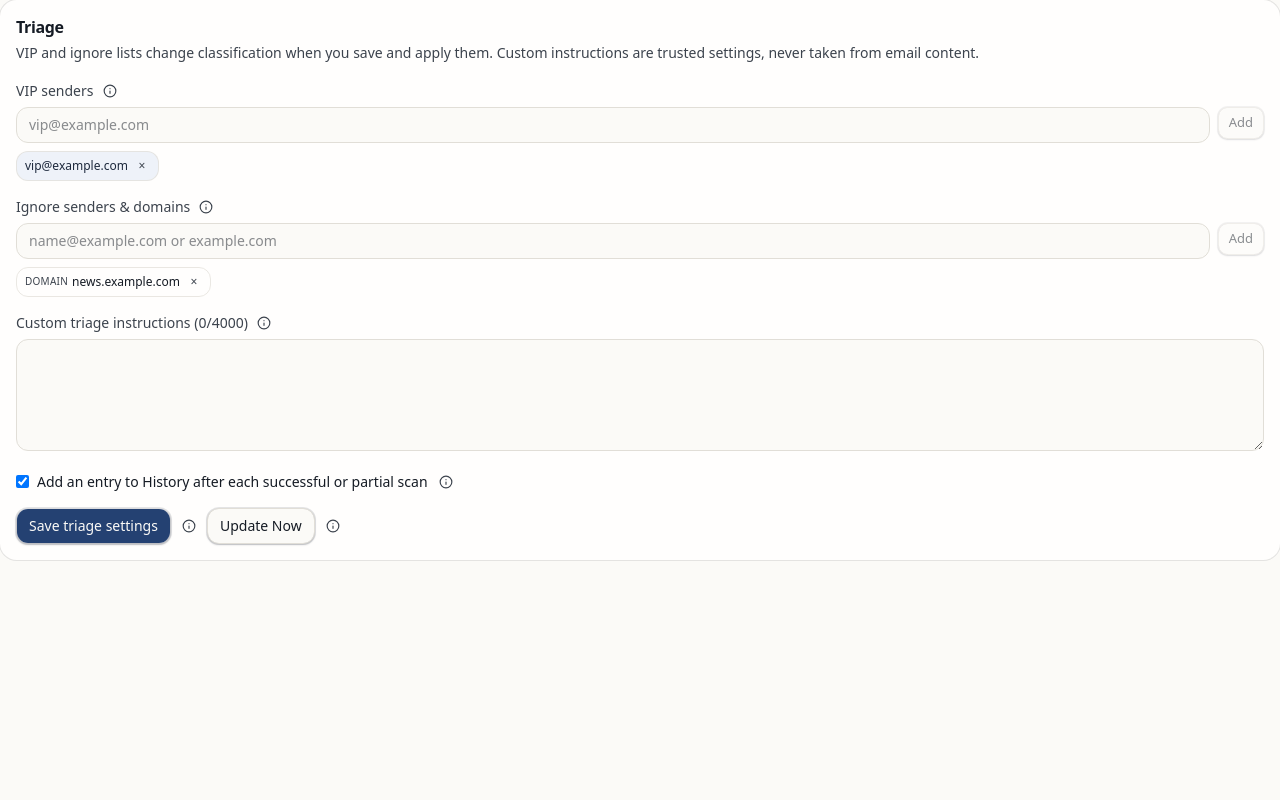
Test: TriagePreferencesForm › adds a validated VIP chip and rejects invalid email
Step 1. Type "Boss@Acme.com" into the field with placeholder "vip@example.com" → {"x": 613, "y": 125}, box [16, 107, 1210, 143]
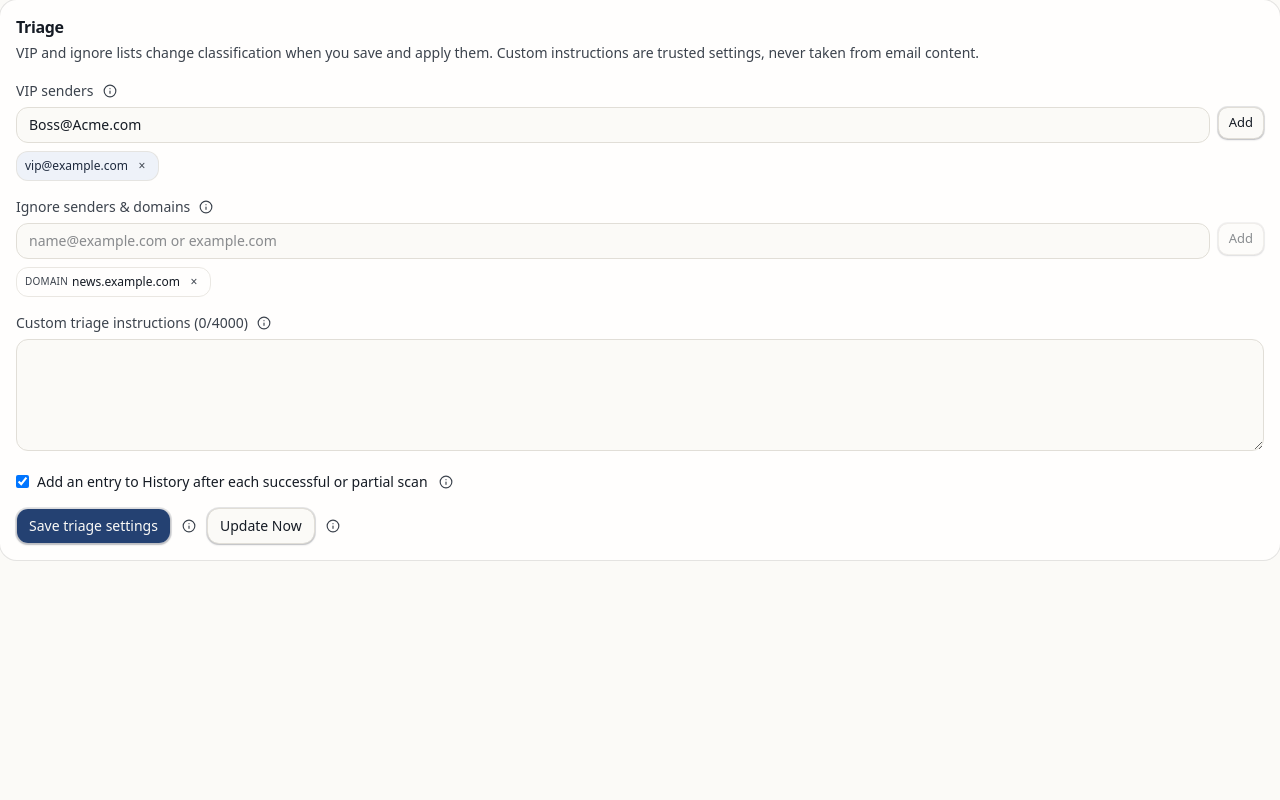
Step 2. Click the 1st button "Add" → {"x": 1241, "y": 123}, box [1218, 107, 1264, 139]
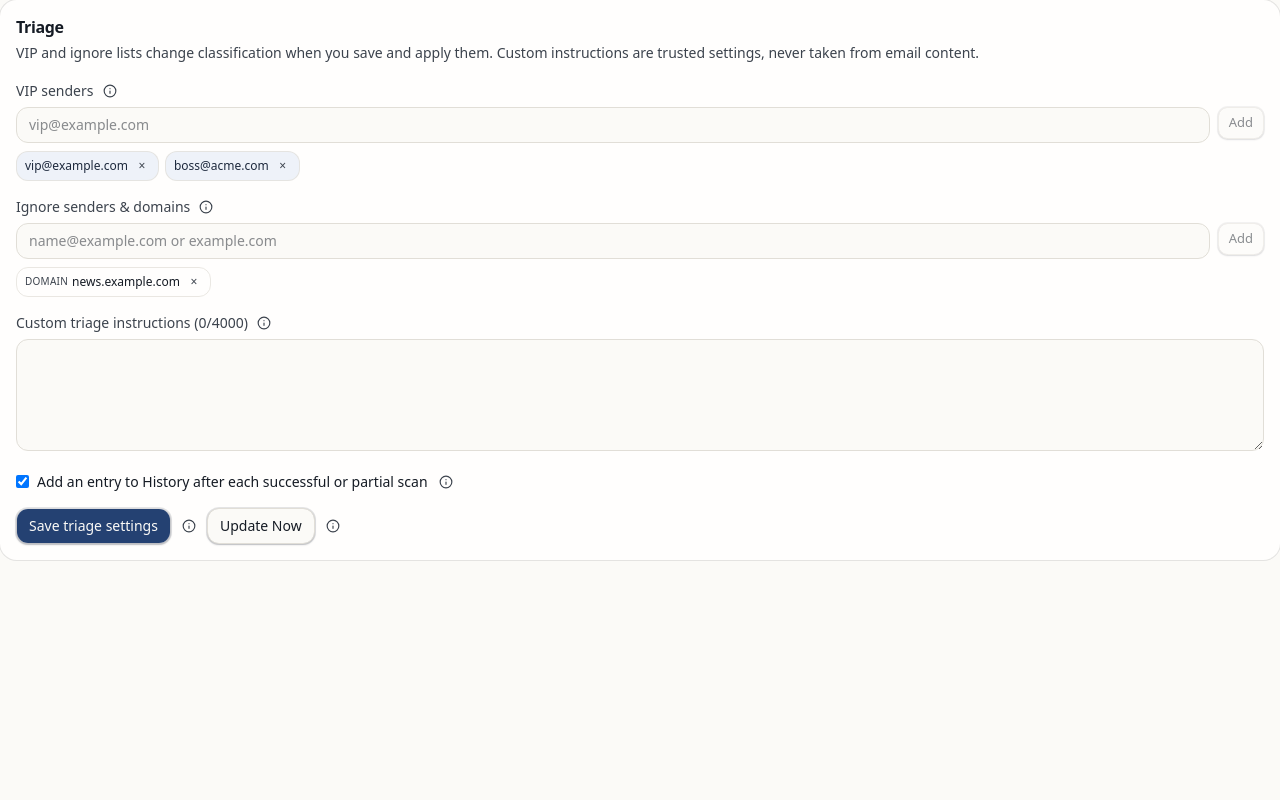
Check: the text "boss@acme.com" is shown, box [174, 158, 269, 174]
Step 3. Type "not-valid" into the field with placeholder "vip@example.com" → {"x": 613, "y": 125}, box [16, 107, 1210, 143]
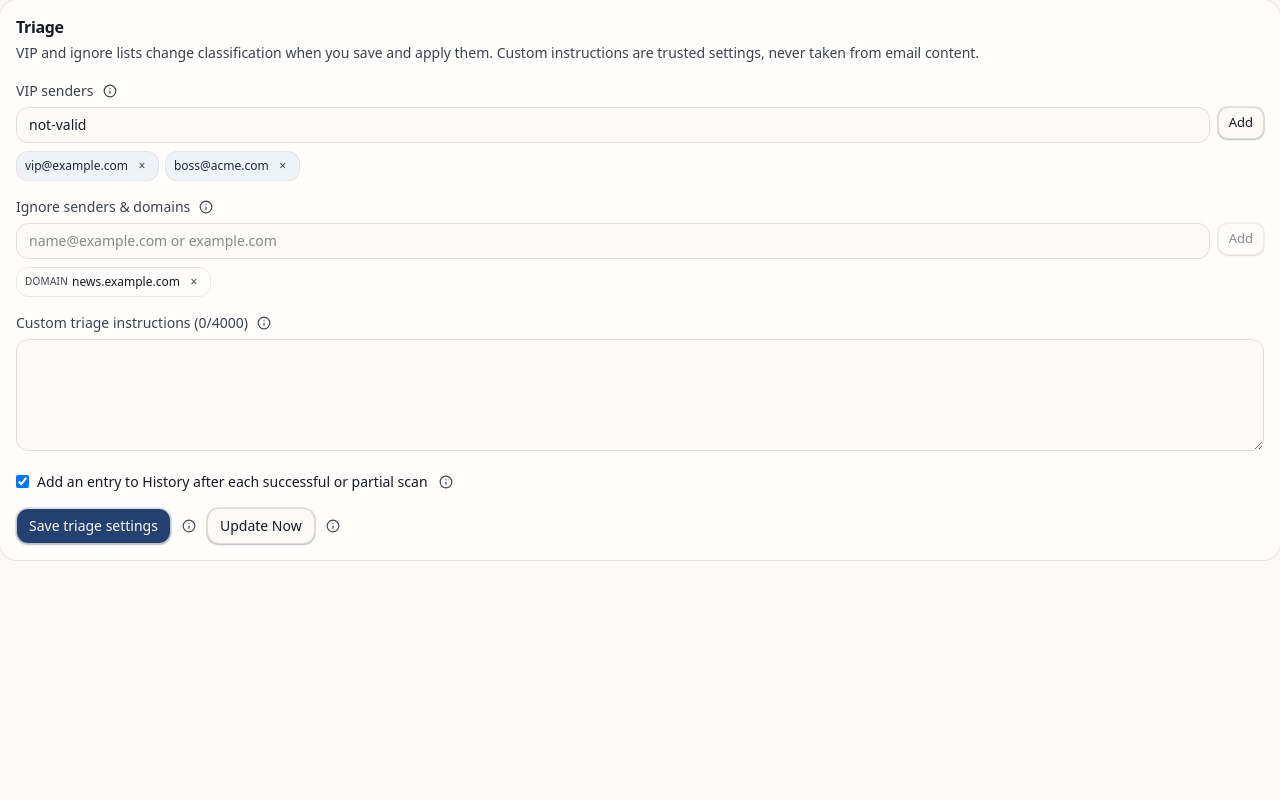
Step 4. Click the 1st button "Add" → {"x": 1241, "y": 123}, box [1218, 107, 1264, 139]
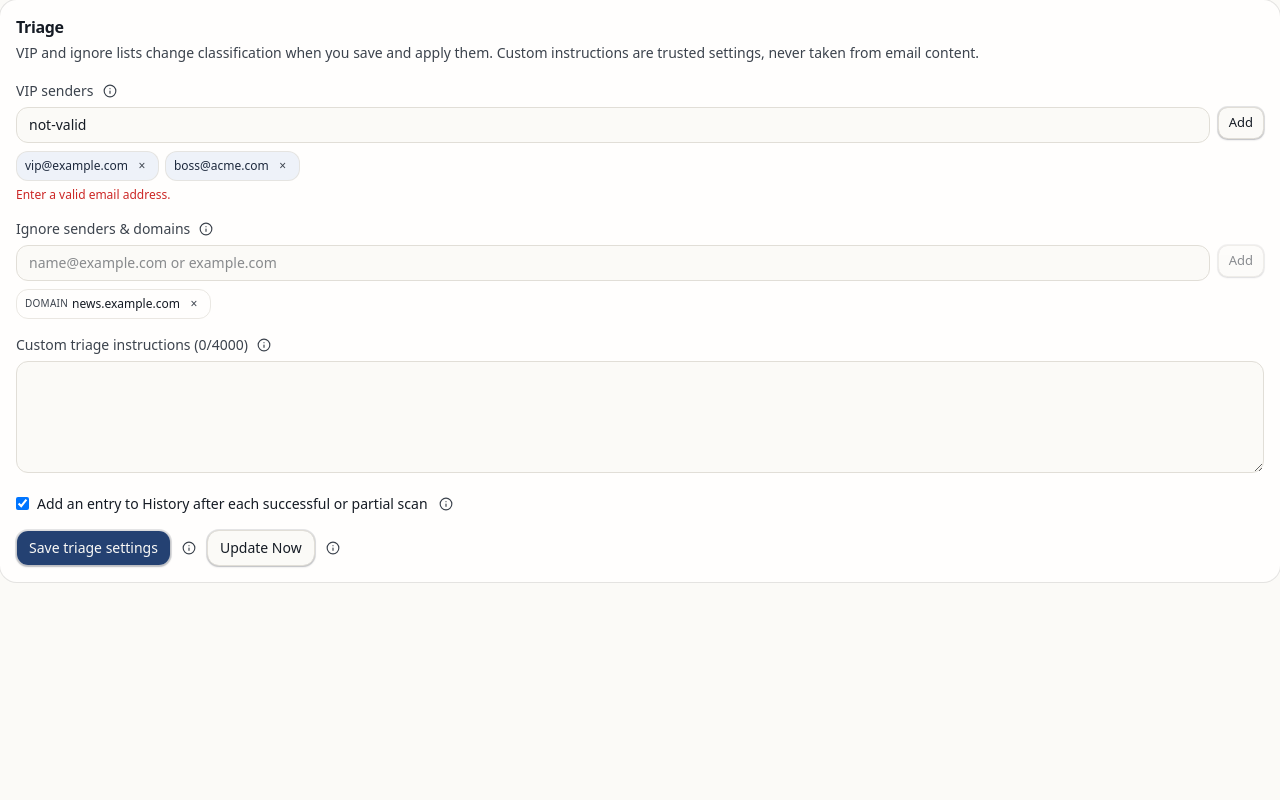
Check: the message reads "Enter a valid email address.", box [16, 186, 170, 203]
